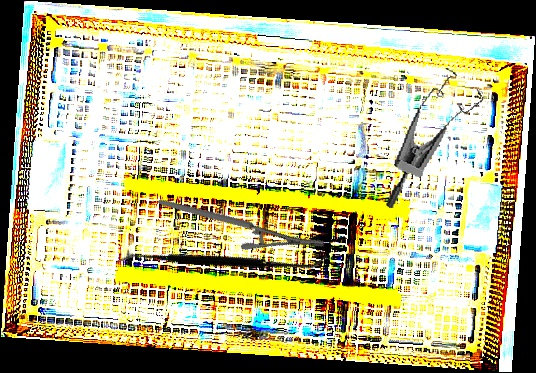Needle Holder: (156, 151, 328, 294)
Spatula Surgical: (114, 165, 329, 353)
Speculum: (383, 61, 490, 223)
